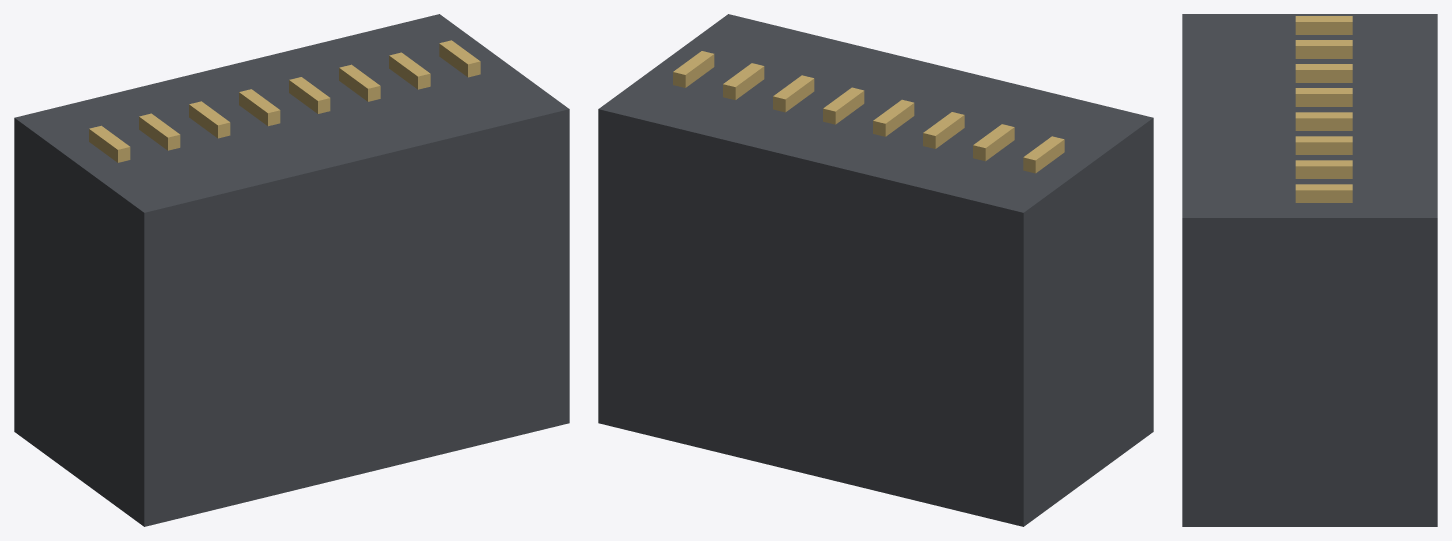
File: 092_L107_CONNECTOR4.glb
The picture shows the model from 3 angles, left to right: view 1: azimuth 30°, elevation 25°; view 2: azimuth 150°, elevation 25°; view 3: azimuth 270°, elevation 25°; orthographic projection.
Visible parts, largest first — view 1: 000_PLASTIC, 006_GOLD, 008_GOLD, 016_GOLD, 014_GOLD, 002_GOLD, 004_GOLD, 012_GOLD, 010_GOLD; view 2: 000_PLASTIC, 010_GOLD, 008_GOLD, 002_GOLD, 006_GOLD, 012_GOLD, 016_GOLD, 004_GOLD, 014_GOLD; view 3: 000_PLASTIC, 002_GOLD, 004_GOLD, 006_GOLD, 008_GOLD, 010_GOLD, 012_GOLD, 014_GOLD, 016_GOLD.
Boxes of the visible parts, x1,y1,x2,y2 form: 000_PLASTIC: (14, 14, 569, 526); 006_GOLD: (189, 101, 230, 138); 008_GOLD: (239, 89, 280, 126); 016_GOLD: (439, 40, 480, 77); 014_GOLD: (389, 52, 430, 89); 002_GOLD: (89, 125, 130, 162); 004_GOLD: (139, 113, 180, 150); 012_GOLD: (339, 64, 380, 101); 010_GOLD: (289, 77, 330, 113); 000_PLASTIC: (598, 14, 1153, 526); 010_GOLD: (823, 87, 864, 124); 008_GOLD: (873, 99, 914, 136); 002_GOLD: (1023, 136, 1064, 173); 006_GOLD: (923, 112, 964, 148); 012_GOLD: (773, 75, 814, 112); 016_GOLD: (673, 51, 714, 87); 004_GOLD: (973, 124, 1014, 161); 014_GOLD: (723, 63, 764, 100); 000_PLASTIC: (1182, 14, 1437, 526); 002_GOLD: (1295, 16, 1352, 34); 004_GOLD: (1295, 40, 1352, 58); 006_GOLD: (1295, 64, 1352, 82); 008_GOLD: (1295, 88, 1352, 106); 010_GOLD: (1295, 112, 1352, 130); 012_GOLD: (1295, 136, 1352, 154); 014_GOLD: (1295, 160, 1352, 178); 016_GOLD: (1295, 184, 1352, 202).
Size of the model in its own units: 0.017 by 0.013 by 0.009.
